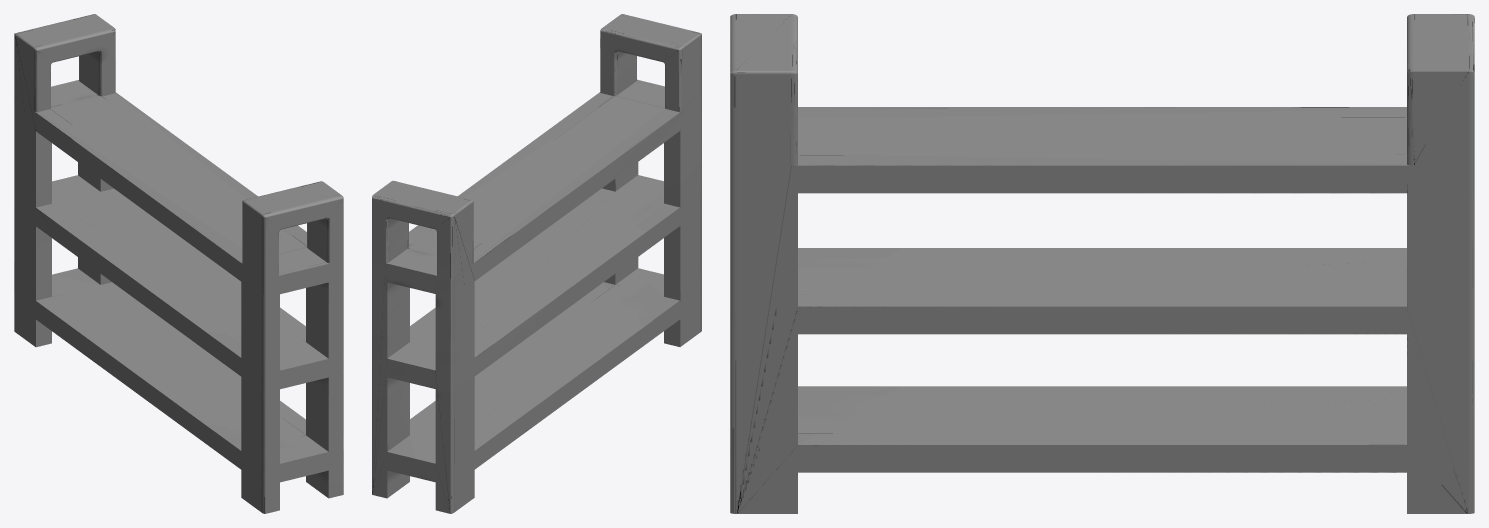
The model's file is estanteria.dae.
3 views of the same model, side by side, from view 1: azimuth 30°, elevation 25°; view 2: azimuth 150°, elevation 25°; view 3: azimuth 270°, elevation 25° (orthographic). The views are drawn at different scales.
Parts seen in each view (by area): view 1: Estanteria; view 2: Estanteria; view 3: Estanteria.
Boxes of the visible parts, x1,y1,x2,y2 form: Estanteria: (14, 14, 343, 513); Estanteria: (372, 14, 701, 513); Estanteria: (730, 14, 1474, 513).
Size of the model in its own units: 0.583 by 3.13 by 2.05.
Materials: 1 (1 with a texture image).
